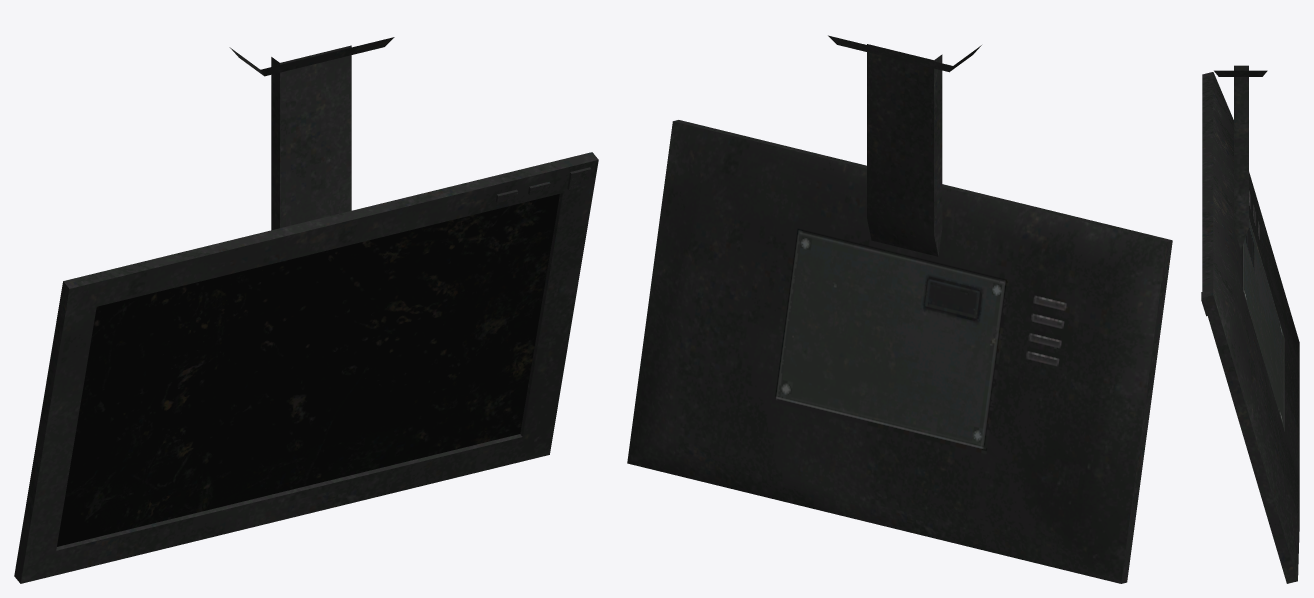
File: Prop_Jsq02.glb
3 renders of one model, left to right at view 1: azimuth 30°, elevation 25°; view 2: azimuth 150°, elevation 25°; view 3: azimuth 270°, elevation 25°, orthographic. The views are drawn at different scales.
Parts seen in each view (by area): view 1: xiutz_jsq_02; view 2: xiutz_jsq_02; view 3: xiutz_jsq_02.
Part boxes in pixels (x1,y1,x2,y2): xiutz_jsq_02: (14,37,598,583); xiutz_jsq_02: (627,35,1172,583); xiutz_jsq_02: (1201,65,1299,583).
Bounding box in the file's own units: 1.77 × 1.59 × 0.3297.
1 material, 1 textured.
